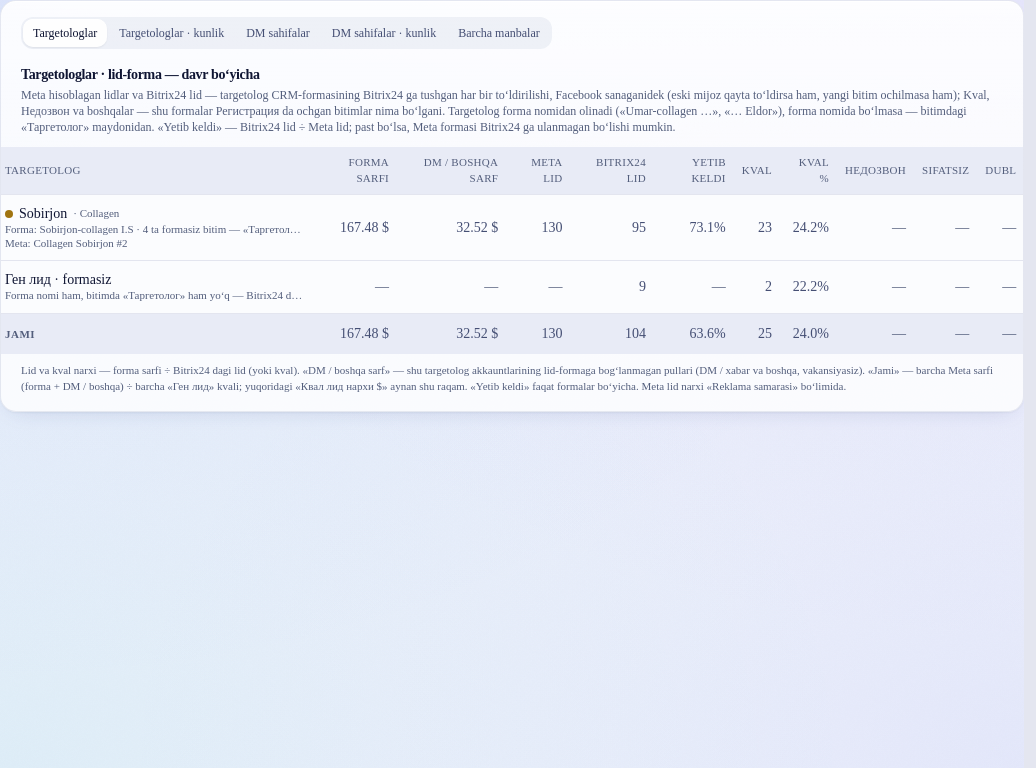
Test: TablesBlock › draws one table at a time
The width and height of the screenshot is (1036, 768).
What coordinates should you click on to do the following:
click the button "DM sahifalar"
I would click on:
 (278, 33)
Its box is [236,19,320,47].
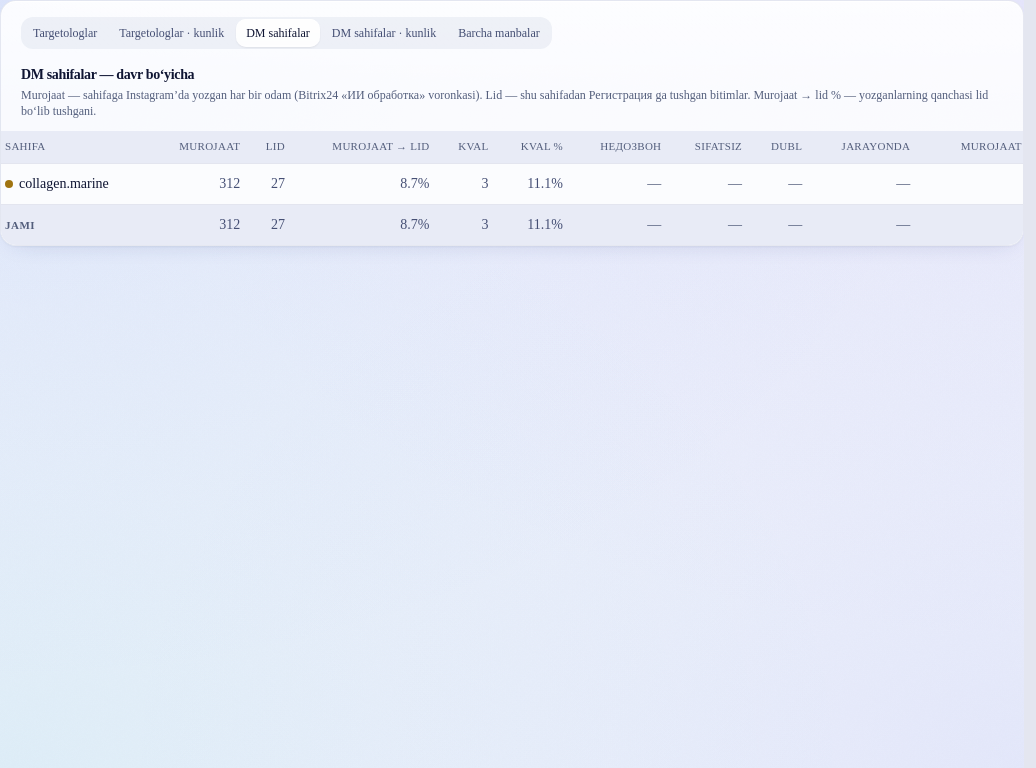
Now the heading "DM sahifalar — davr boʻyicha" is shown, box [21,67,194,82]
Now the text "collagen.marine" is shown, box [5,174,109,194]
Now the text "Sobirjon" is gone
